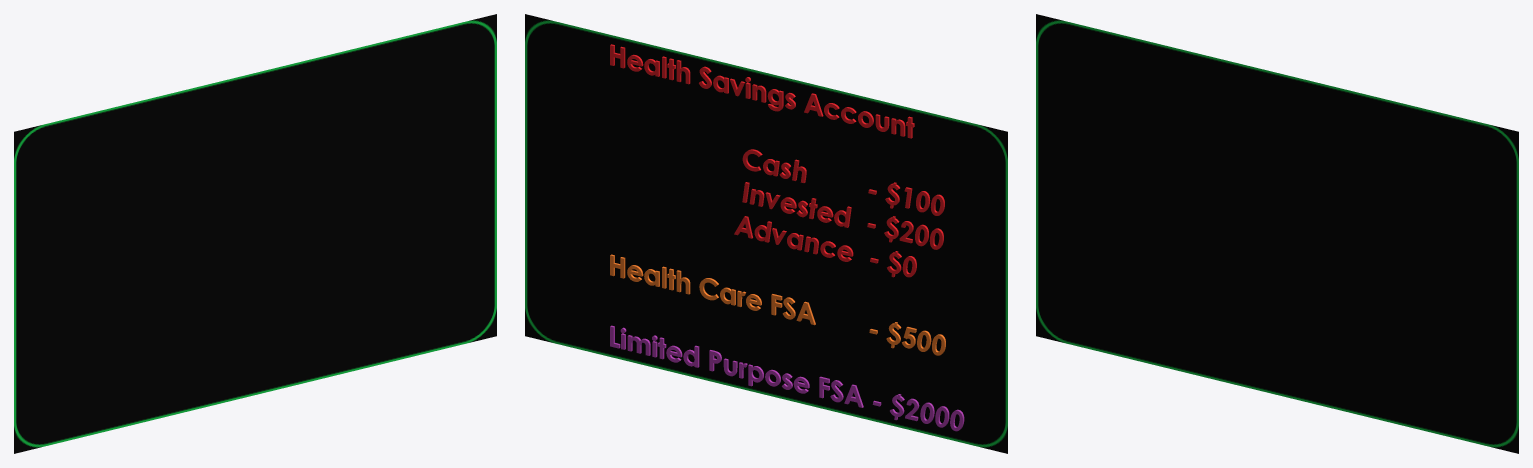
Rendered from twelve.fbx.
3 views of the same model, side by side, from view 1: azimuth 30°, elevation 25°; view 2: azimuth 150°, elevation 25°; view 3: azimuth 330°, elevation 25° (orthographic).
Visible parts, largest first — view 1: root; view 2: root, node_id42 (×8); view 3: root.
Part boxes in pixels (x1,y1,x2,y2): root: (14, 14, 496, 453); root: (525, 14, 1007, 453); node_id42 (×8): (610, 44, 964, 431); root: (1036, 14, 1518, 453).
Bounding box in the file's own units: 6.73 × 4.29 × 0.0821.
9 materials, 1 textured.
